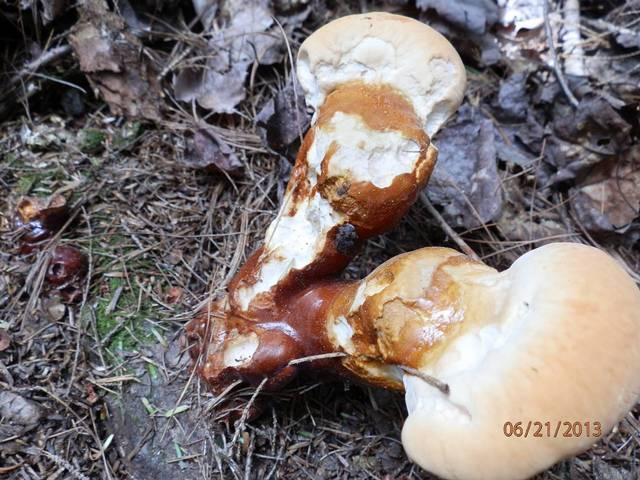poisonous_mushroom: (183, 10, 638, 478)
